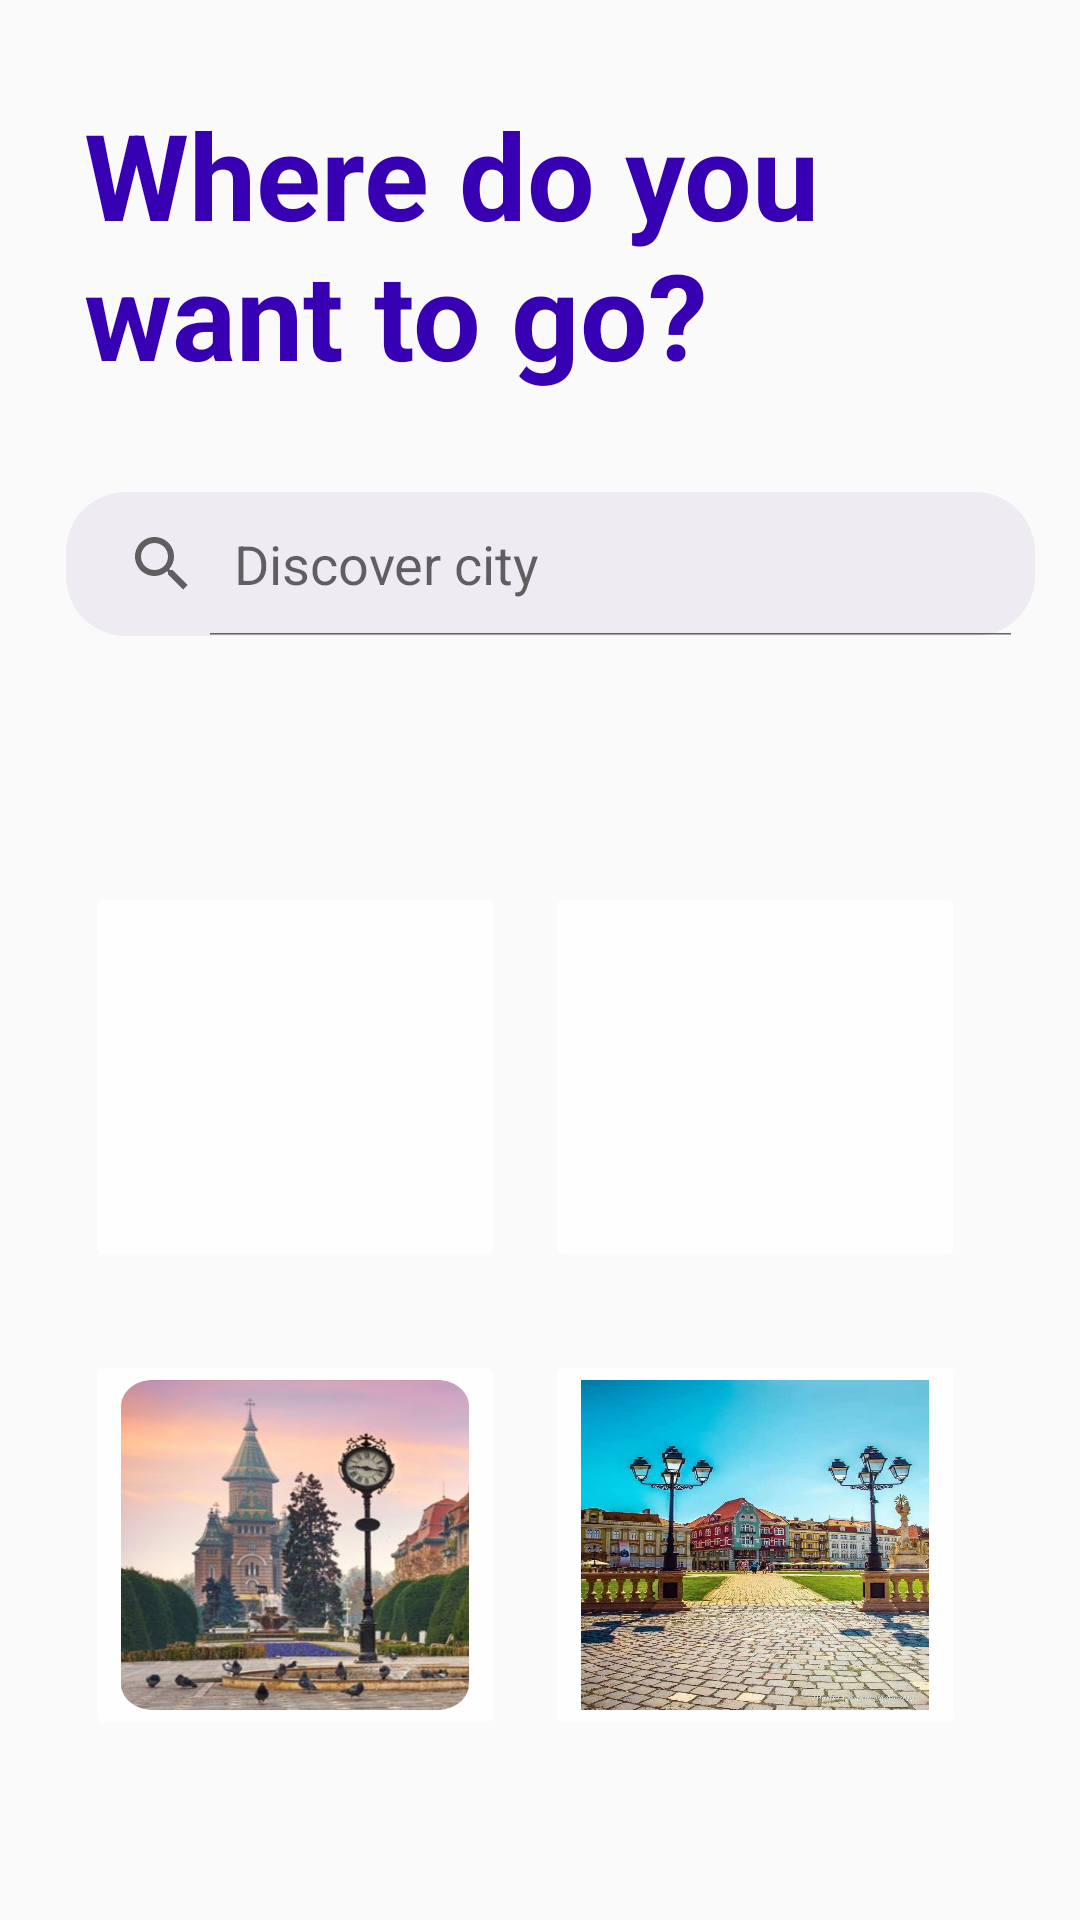

Icons on this 1080px×1920px Android screen, each with the point to tap as [x,y]:
timi: [295,1545]
unirii: [755,1545]
